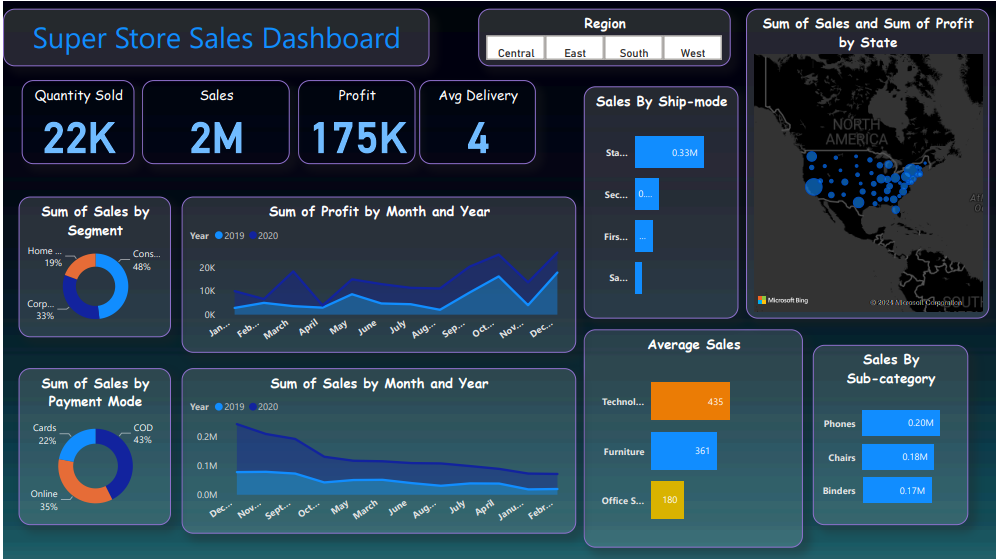

This screenshot's page, from the dashboard's own definition file:
{"tool":"powerbi","page":{"name":"Page 1","canvas":[1280,720],"ordinal":0},"visuals":[{"type":"clusteredBarChart","title":"Average Sales","fields":{"Y":["Avg(SuperStore_Sales_Dataset.Sales)"],"Category":["SuperStore_Sales_Dataset.Category"]},"box":[748,423.3,281.7,280.3],"z":0},{"type":"clusteredBarChart","title":" Sales By Sub-category","fields":{"Y":["Sum(SuperStore_Sales_Dataset.Sales)"],"Category":["SuperStore_Sales_Dataset.Sub-Category"]},"box":[1042.6,443.4,200.2,231.7],"z":1000},{"type":"clusteredBarChart","title":" Sales By Ship-mode","fields":{"Y":["Sum(SuperStore_Sales_Dataset.Sales)"],"Category":["SuperStore_Sales_Dataset.Ship Mode"]},"box":[748,110.1,198.8,298.9],"z":2000},{"type":"stackedAreaChart","fields":{"Y":["Sum(SuperStore_Sales_Dataset.Sales)"],"Series":["SuperStore_Sales_Dataset.Order Date.Variation.Date Hierarchy.Year"],"Category":["SuperStore_Sales_Dataset.Order Date.Variation.Date Hierarchy.Month"]},"box":[230.3,473.4,507.7,213.1],"z":3000},{"type":"stackedAreaChart","fields":{"Series":["SuperStore_Sales_Dataset.Order Date.Variation.Date Hierarchy.Year"],"Category":["SuperStore_Sales_Dataset.Order Date.Variation.Date Hierarchy.Month"],"Y":["Sum(SuperStore_Sales_Dataset.Profit)"]},"box":[230.3,251.7,507.7,201.7],"z":4000},{"type":"map","fields":{"Size":["Sum(SuperStore_Sales_Dataset.Sales)"],"Category":["SuperStore_Sales_Dataset.State"]},"box":[956.8,10,313.2,399],"z":5000},{"type":"donutChart","fields":{"Category":["SuperStore_Sales_Dataset.Segment"],"Y":["Sum(SuperStore_Sales_Dataset.Sales)"]},"box":[20,251.7,195.9,181.6],"z":6000},{"type":"donutChart","fields":{"Category":["SuperStore_Sales_Dataset.Payment Mode"],"Y":["Sum(SuperStore_Sales_Dataset.Sales)"]},"box":[20,473.4,195.9,201.7],"z":7000},{"type":"advancedSlicerVisual","fields":{"Values":["SuperStore_Sales_Dataset.Region"]},"box":[612.1,10,324.6,74.4],"z":8000},{"type":"textbox","box":[0,10,549.2,74.4],"z":8001},{"type":"card","title":"Profit","fields":{"Values":["Sum(SuperStore_Sales_Dataset.Profit)"]},"box":[380.4,101.5,150.2,108.7],"z":8002},{"type":"card","title":"Sales","fields":{"Values":["Sum(SuperStore_Sales_Dataset.Sales)"]},"box":[178.8,101.5,190.2,108.7],"z":8003},{"type":"card","title":"Quantity Sold","fields":{"Values":["Sum(SuperStore_Sales_Dataset.Quantity)"]},"box":[24.3,101.5,144.4,108.7],"z":8004},{"type":"card","title":"Avg Delivery","fields":{"Values":["Avg(SuperStore_Sales_Dataset.avg_delivery)"]},"box":[536.3,101.5,150.2,108.7],"z":8005}]}

Visuals, with their boxes in screenshot pixels (x1, y1, x2, y2), scaled from the page's 1280x720 canvas onto the 996x559 screenshot:
"Average Sales" clusteredBarChart: left=582, top=329, right=801, bottom=546
" Sales By Sub-category" clusteredBarChart: left=811, top=344, right=967, bottom=524
" Sales By Ship-mode" clusteredBarChart: left=582, top=85, right=737, bottom=318
stackedAreaChart - Sum(SuperStore_Sales_Dataset.Sales) x SuperStore_Sales_Dataset.Order Date.Variation.Date Hierarchy.Year: left=179, top=368, right=574, bottom=533
stackedAreaChart - SuperStore_Sales_Dataset.Order Date.Variation.Date Hierarchy.Year x SuperStore_Sales_Dataset.Order Date.Variation.Date Hierarchy.Month: left=179, top=195, right=574, bottom=352
map - Sum(SuperStore_Sales_Dataset.Sales) x SuperStore_Sales_Dataset.State: left=745, top=8, right=988, bottom=318
donutChart - SuperStore_Sales_Dataset.Segment x Sum(SuperStore_Sales_Dataset.Sales): left=16, top=195, right=168, bottom=336
donutChart - SuperStore_Sales_Dataset.Payment Mode x Sum(SuperStore_Sales_Dataset.Sales): left=16, top=368, right=168, bottom=524
advancedSlicerVisual - SuperStore_Sales_Dataset.Region: left=476, top=8, right=729, bottom=66
textbox: left=0, top=8, right=427, bottom=66
"Profit" card: left=296, top=79, right=413, bottom=163
"Sales" card: left=139, top=79, right=287, bottom=163
"Quantity Sold" card: left=19, top=79, right=131, bottom=163
"Avg Delivery" card: left=417, top=79, right=534, bottom=163
